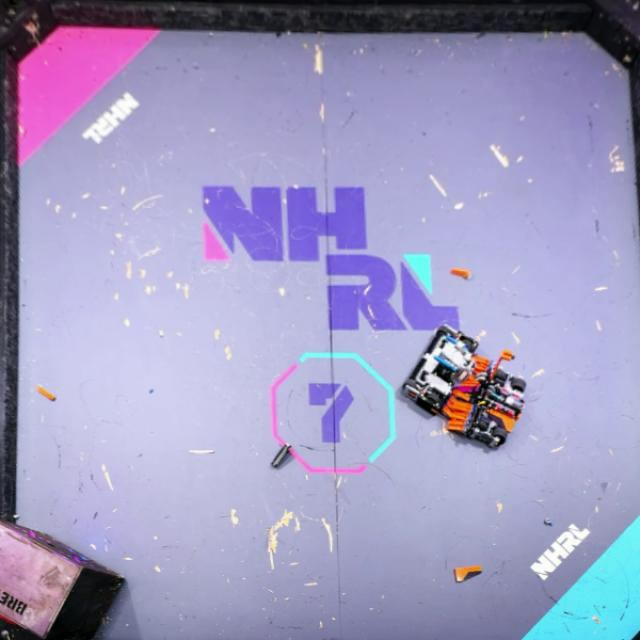housebot: (0, 518, 125, 640)
robot: (401, 324, 491, 419), (446, 351, 528, 449)
